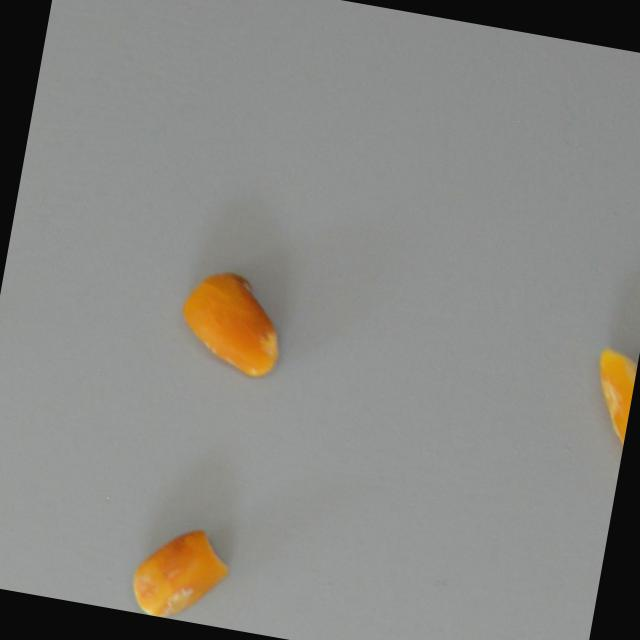dañado: (167, 255, 301, 386), (122, 515, 239, 628), (571, 337, 640, 476)
